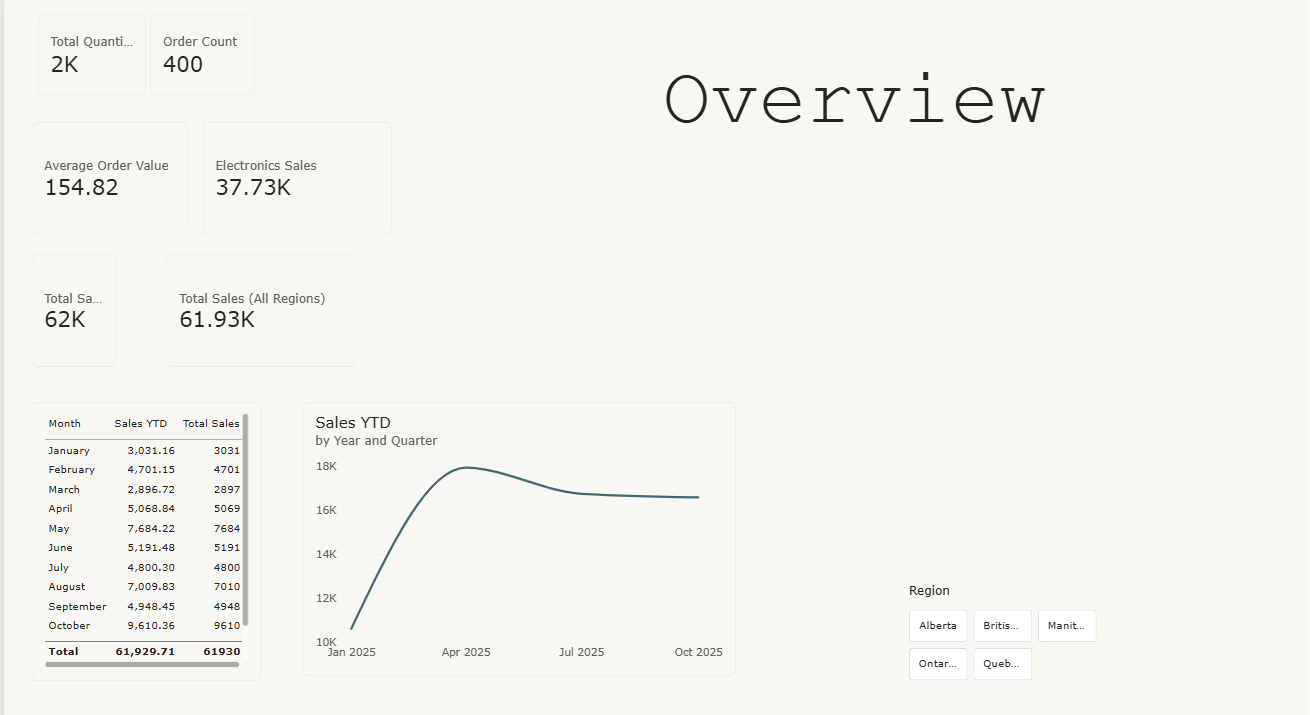

What the dashboard file says about the page in this screenshot:
{"tool":"powerbi","page":{"name":"Overview","canvas":[1920,1080],"ordinal":0},"visuals":[{"type":"cardVisual","fields":{"Data":["Sales.Total Sales"]},"box":[36.7,343.3,113.3,150],"z":0},{"type":"cardVisual","fields":{"Data":["Sales.Total Quantity"]},"box":[45,23.3,144.8,108.6],"z":1000},{"type":"cardVisual","fields":{"Data":["Sales.Order Count"]},"box":[195,23.3,140,108.3],"z":2000},{"type":"cardVisual","fields":{"Data":["Sales.Average Order Value"]},"box":[36.7,166.7,208.1,150.2],"z":3000},{"type":"advancedSlicerVisual","fields":{"Values":["Customers.Region"]},"box":[1206.7,781.7,251.5,130.3],"z":4000},{"type":"cardVisual","fields":{"Data":["Sales.Total Sales (All Regions)"]},"box":[216.7,343.3,252,150],"z":5000},{"type":"cardVisual","fields":{"Data":["Sales.Electronics Sales"]},"box":[265,166.7,252,150],"z":6000},{"type":"lineChart","fields":{"Category":["Sales.Date.Variation.Date Hierarchy.Year","Sales.Date.Variation.Date Hierarchy.Quarter","Sales.Date.Variation.Date Hierarchy.Month","Sales.Date.Variation.Date Hierarchy.Day"],"Y":["Sales.Sales YTD"]},"box":[398.3,540,577.5,365],"z":7000},{"type":"tableEx","fields":{"Values":["Sales.Date.Variation.Date Hierarchy.Month","Sales.Sales YTD","Sales.Total Sales"]},"box":[36.7,540,306.7,371.7],"z":7001},{"type":"textbox","box":[823.3,78.3,621.7,150],"z":7002}]}

Visuals, with their boxes on the page's 1920x1080 design canvas (x1, y1, x2, y2). These are canvas units, not pixel positions in the 1310x715 screenshot, which may show the page scaled, cropped or inside an application window:
cardVisual - Sales.Total Sales: [37,343,150,493]
cardVisual - Sales.Total Quantity: [45,23,190,132]
cardVisual - Sales.Order Count: [195,23,335,132]
cardVisual - Sales.Average Order Value: [37,167,245,317]
advancedSlicerVisual - Customers.Region: [1207,782,1458,912]
cardVisual - Sales.Total Sales (All Regions): [217,343,469,493]
cardVisual - Sales.Electronics Sales: [265,167,517,317]
lineChart - Sales.Date.Variation.Date Hierarchy.Year x Sales.Date.Variation.Date Hierarchy.Quarter: [398,540,976,905]
tableEx - Sales.Date.Variation.Date Hierarchy.Month x Sales.Sales YTD: [37,540,343,912]
textbox: [823,78,1445,228]
